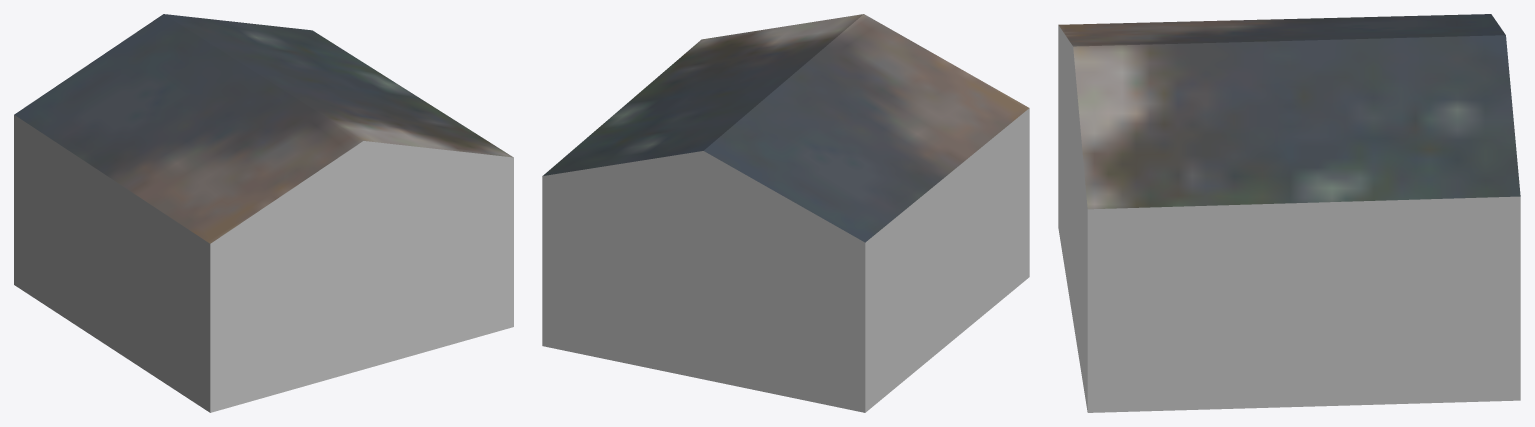
The model's file is DEBW_0010007TxeT.gltf.
3 renders of one model, left to right at view 1: azimuth 30°, elevation 25°; view 2: azimuth 150°, elevation 25°; view 3: azimuth 270°, elevation 25°, orthographic. The views are drawn at different scales.
Visible parts, largest first — view 1: Z_UP; view 2: Z_UP; view 3: Z_UP.
Part boxes in pixels (x1=…): Z_UP: x1=14, y1=14, x2=513, y2=412; Z_UP: x1=542, y1=14, x2=1029, y2=412; Z_UP: x1=1058, y1=14, x2=1520, y2=412.
Size of the model in its own units: 6.44 by 4.24 by 6.47.
Materials: 2 (1 with a texture image).
